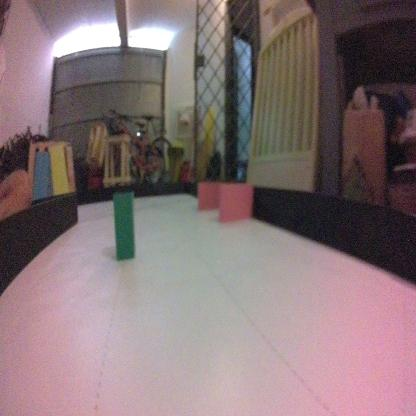green: (113, 183, 136, 266)
magenta: (216, 180, 254, 228), (196, 177, 228, 213)
